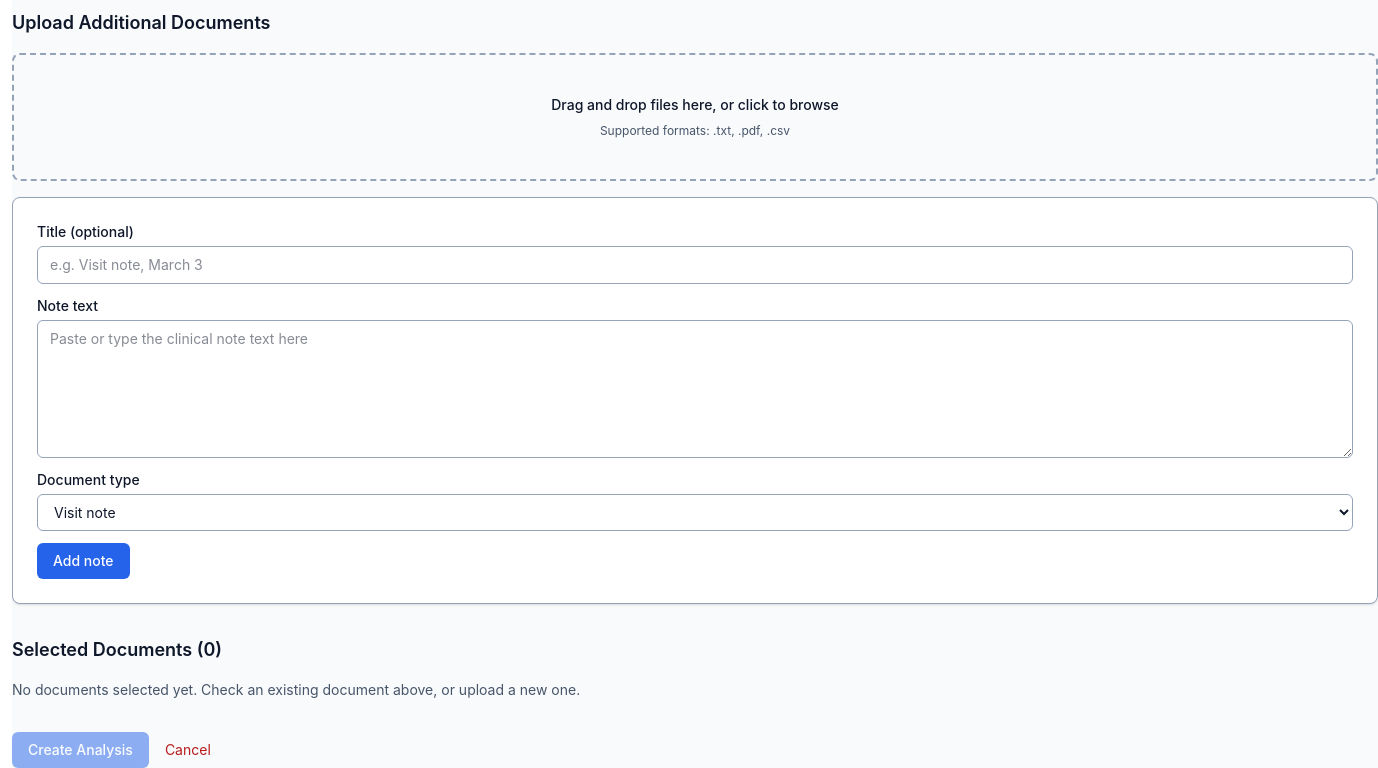
Scenario: CreateAnalysisPage › adding a pasted note immediately adds it to the selection
(page scrolled)
Type "Pasted note text" into the text box labelled "Note text" at (695, 389), box [37,320,1353,458]
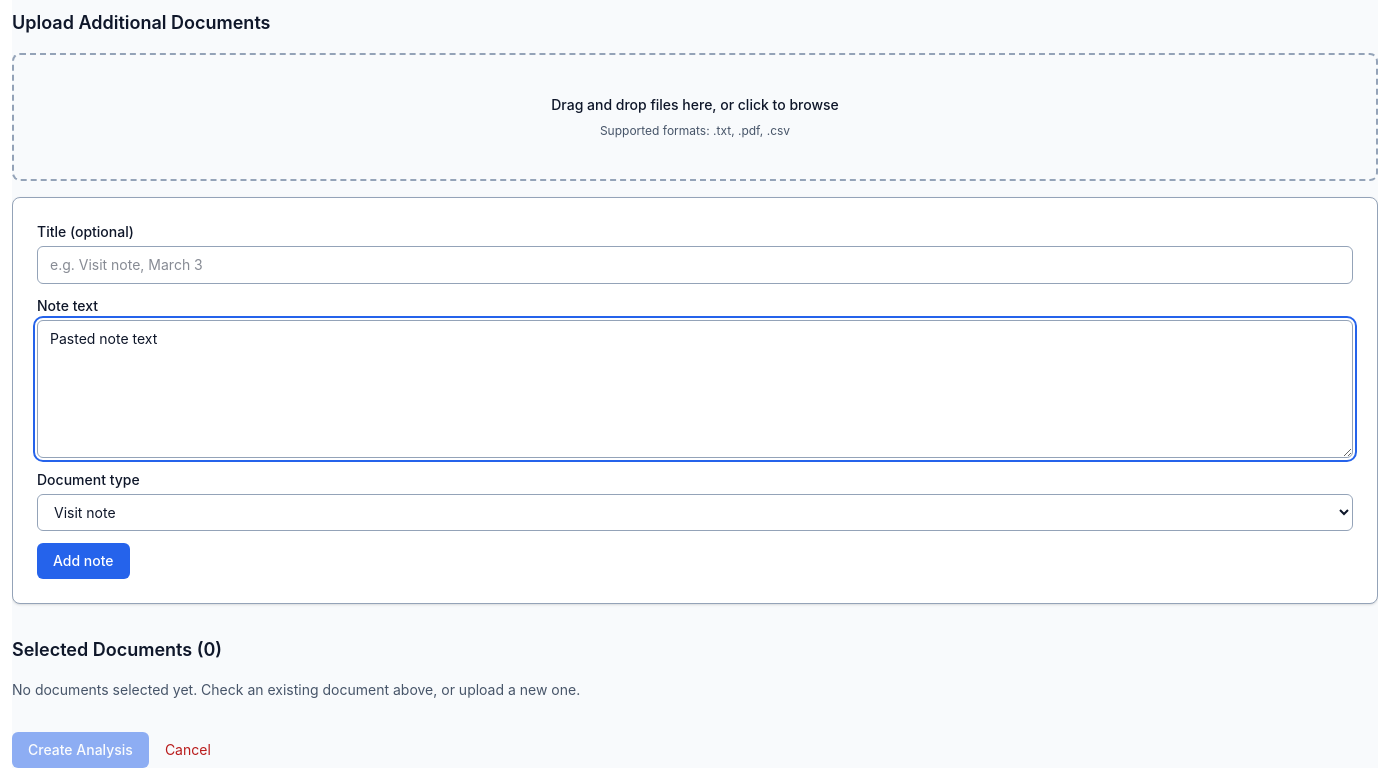
Click the button "Add note" at (83, 561), box [37,543,130,579]
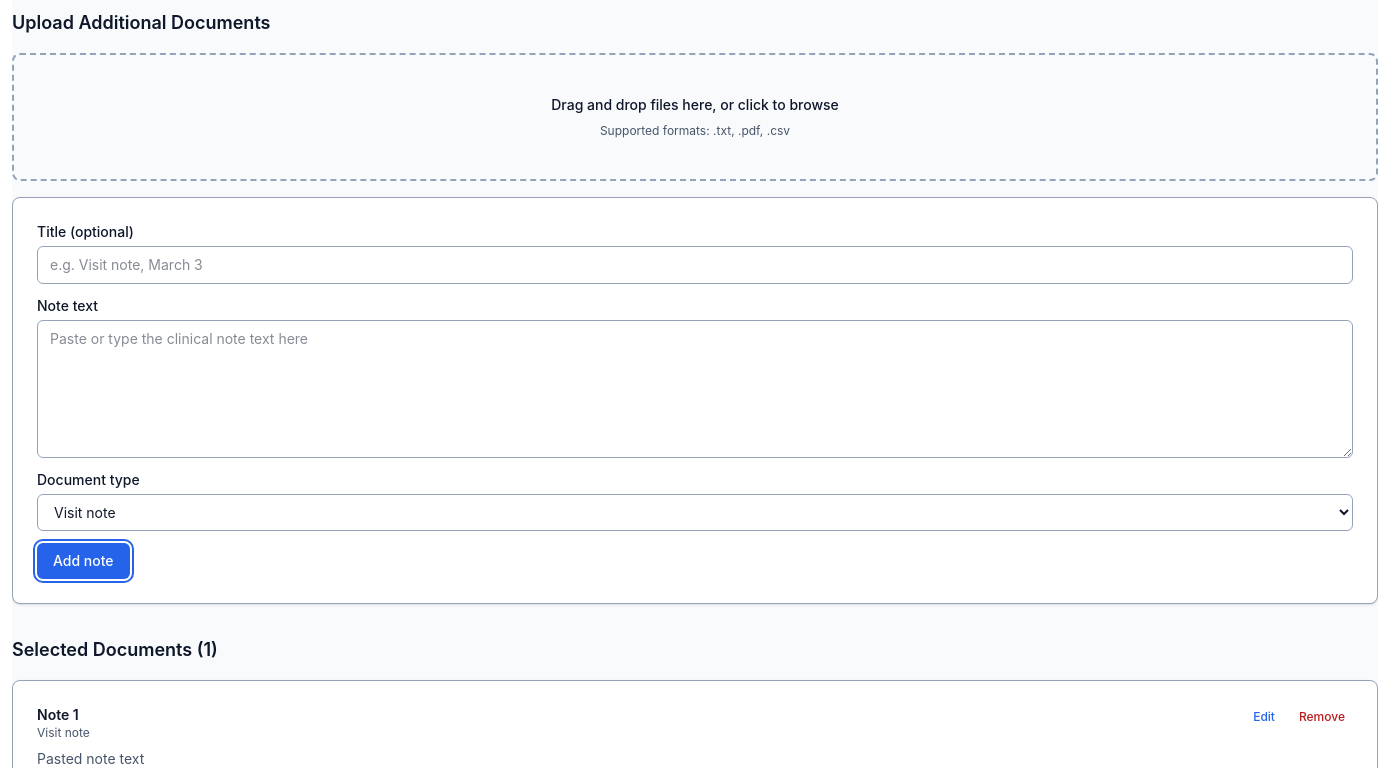
Now the heading "Note 1" is shown, box [37,706,79,723]
